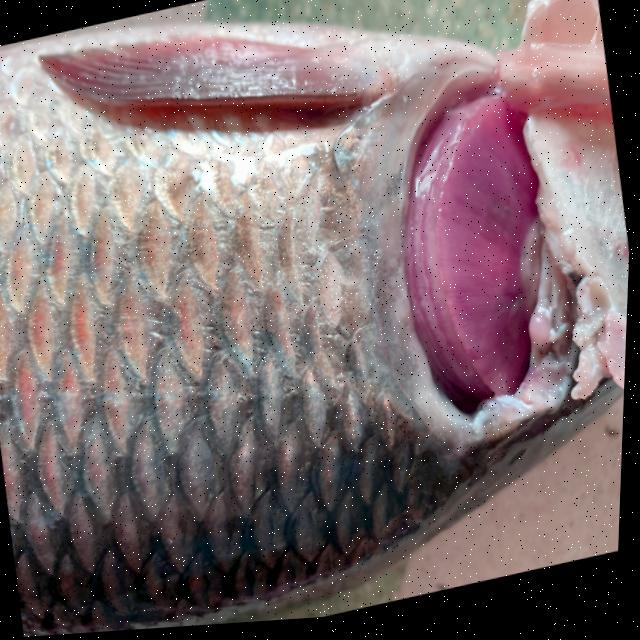Fresh: (0, 0, 425, 640), (357, 22, 602, 459)
